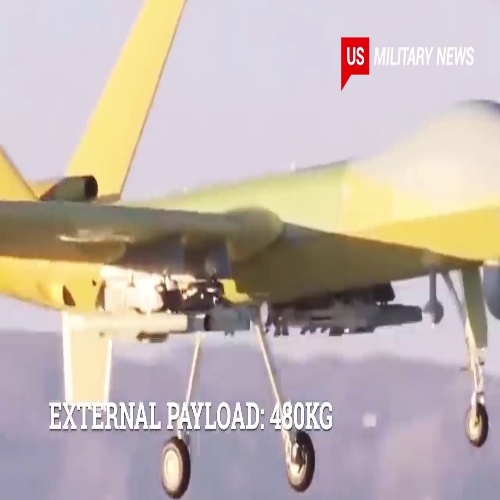uav258: (2, 3, 500, 491)
